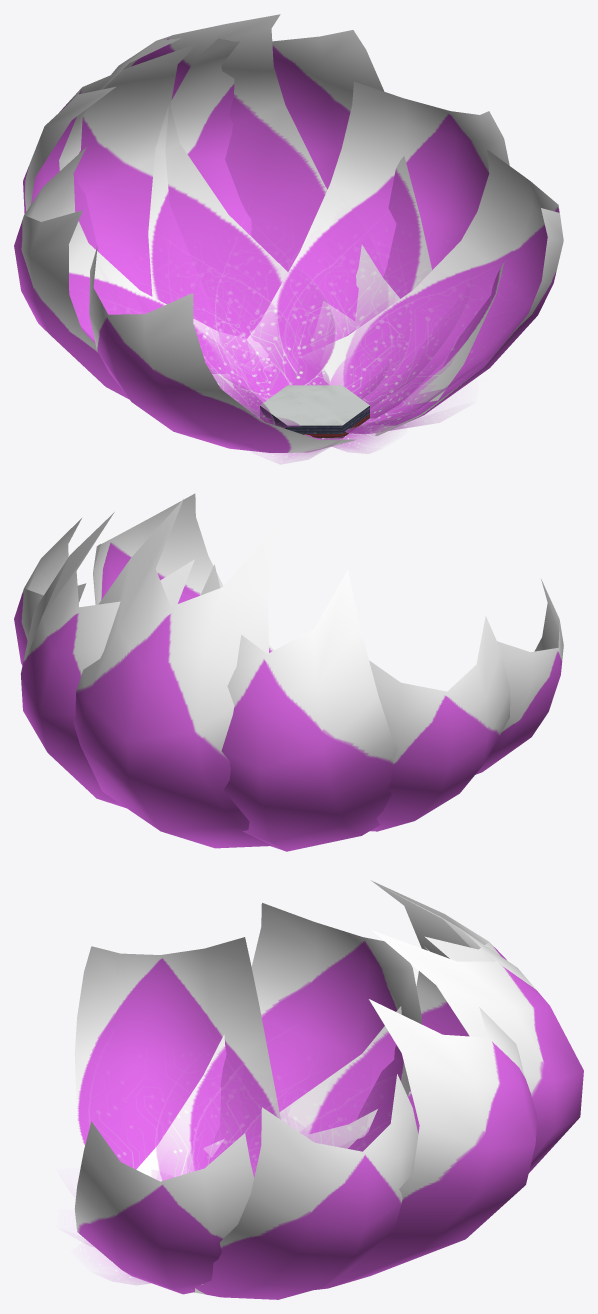
Rendered from Altar01_Art.glb.
3 renders of one model, top to bottom at view 1: azimuth 30°, elevation 25°; view 2: azimuth 150°, elevation 25°; view 3: azimuth 270°, elevation 25°, orthographic. The views are drawn at different scales.
Visible parts, largest first — view 1: Altar01_Art; view 2: Altar01_Art; view 3: Altar01_Art.
Part boxes in pixels (x1=…): Altar01_Art: x1=14, y1=14, x2=563, y2=463; Altar01_Art: x1=14, y1=493, x2=563, y2=851; Altar01_Art: x1=74, y1=880, x2=583, y2=1299.
Bounding box in the file's own units: 7.34 × 5.12 × 7.3.
Materials: 3 (3 with a texture image).
